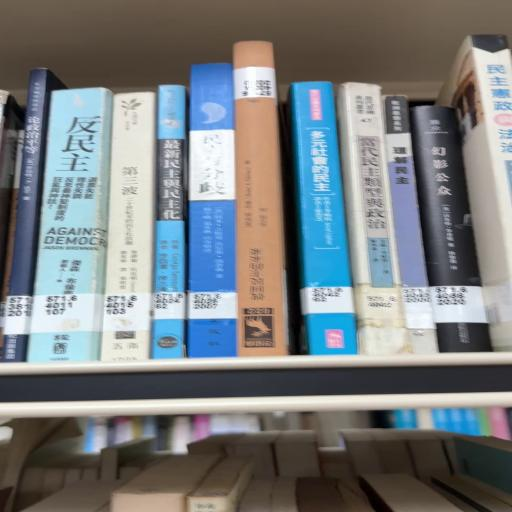reverse: (234, 42, 289, 358)
